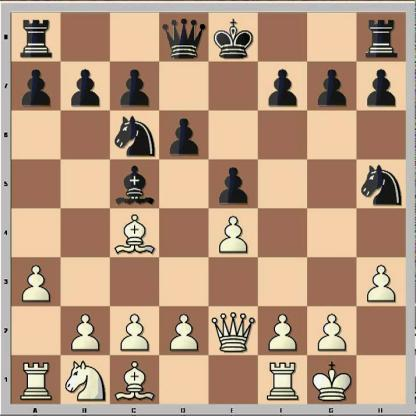black-bishop: (115, 160, 156, 208)
black-king: (209, 14, 257, 63)
black-knight: (359, 160, 404, 206), (114, 110, 156, 159)
black-pawn: (166, 111, 205, 158), (216, 160, 254, 207), (266, 60, 301, 111), (66, 64, 106, 108), (18, 64, 58, 108), (315, 61, 351, 108), (118, 62, 154, 108), (364, 62, 398, 109)
black-queen: (160, 11, 208, 61)
black-rook: (362, 12, 402, 62), (16, 11, 57, 58)
white-bishop: (112, 356, 160, 402), (113, 207, 156, 257)
white-king: (310, 356, 356, 402)
white-knight: (62, 358, 107, 402)
white-pawn: (217, 210, 253, 256), (118, 307, 152, 354), (312, 310, 348, 354), (365, 262, 400, 306), (69, 308, 101, 354), (167, 310, 200, 354), (20, 259, 52, 303), (268, 312, 300, 354)
white-queen: (207, 307, 260, 354)
white-rook: (263, 355, 305, 402), (17, 356, 54, 401)
